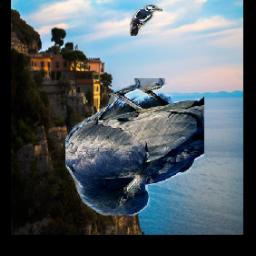Crow: (64, 79, 203, 216)
Woodpecker: (130, 5, 162, 36)
